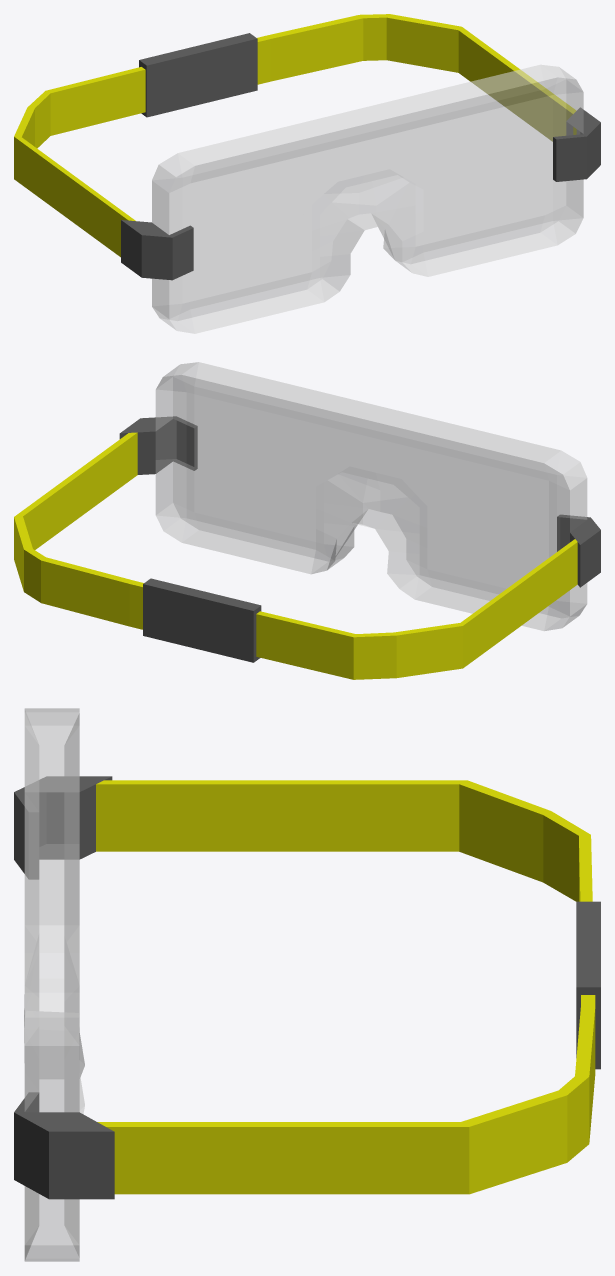
File: saftey_goggles.fbx
The picture shows the model from 3 angles, top to bottom: view 1: azimuth 30°, elevation 25°; view 2: azimuth 150°, elevation 25°; view 3: azimuth 270°, elevation 25°; orthographic projection. The views are drawn at different scales.
Parts seen in each view (by area): view 1: Cube; view 2: Cube; view 3: Cube.
Part boxes in pixels (x1,y1,x2,y2): Cube: (14,14,600,333); Cube: (14,362,600,679); Cube: (14,708,600,1261).
Size of the model in its own units: 45.82 by 16 by 31.98.
